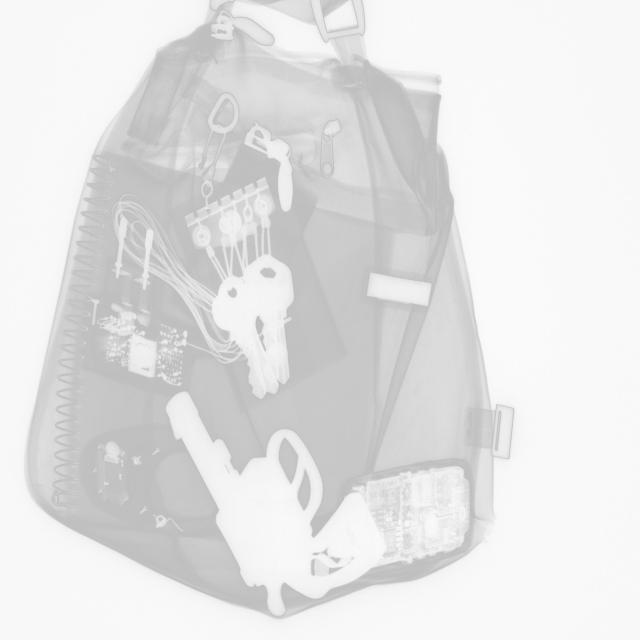grenade: (344, 459, 491, 569)
